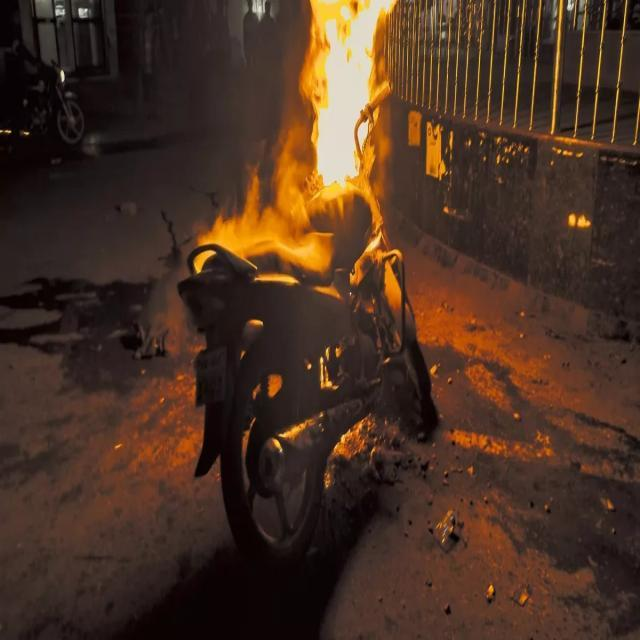Fire: (302, 0, 393, 183)
Smoke: (207, 103, 305, 250)
